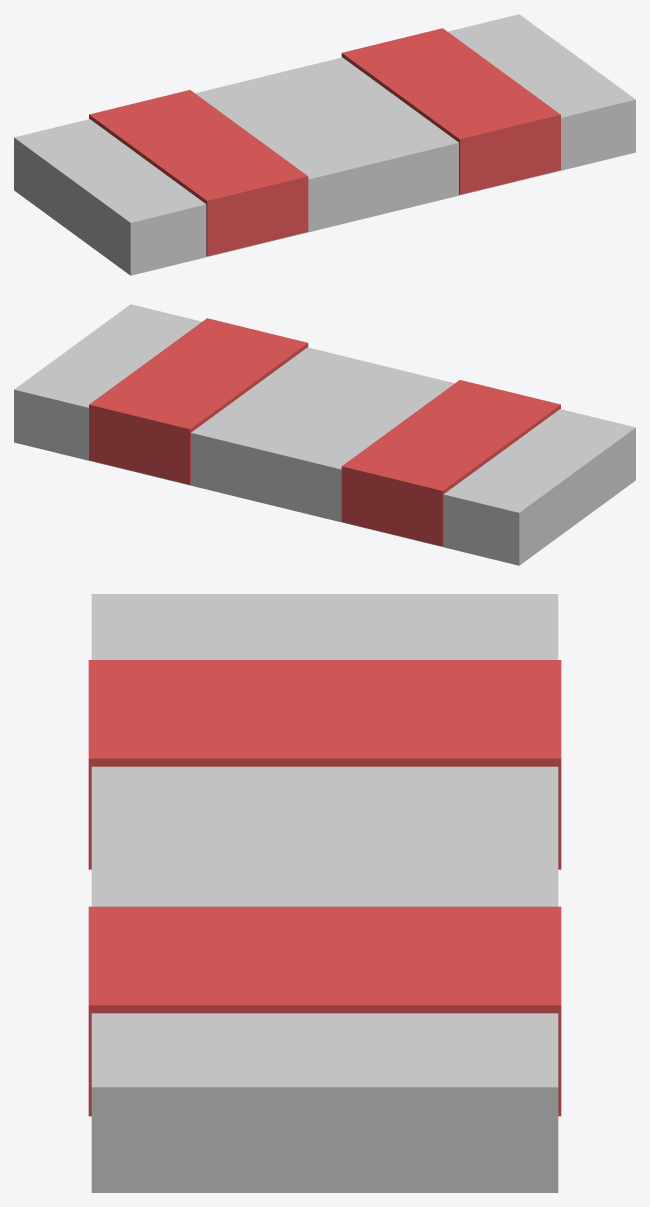
Rendered from barrier.glb.
The picture shows the model from 3 angles, top to bottom: view 1: azimuth 30°, elevation 25°; view 2: azimuth 150°, elevation 25°; view 3: azimuth 270°, elevation 25°; orthographic projection. The views are drawn at different scales.
Parts seen in each view (by area): view 1: Barrier; view 2: Barrier; view 3: Barrier.
Boxes of the visible parts, x1,y1,x2,y2 form: Barrier: [14, 14, 635, 275]; Barrier: [14, 304, 635, 565]; Barrier: [88, 594, 561, 1192].
Size of the model in its own units: 2 by 0.215 by 0.81.
